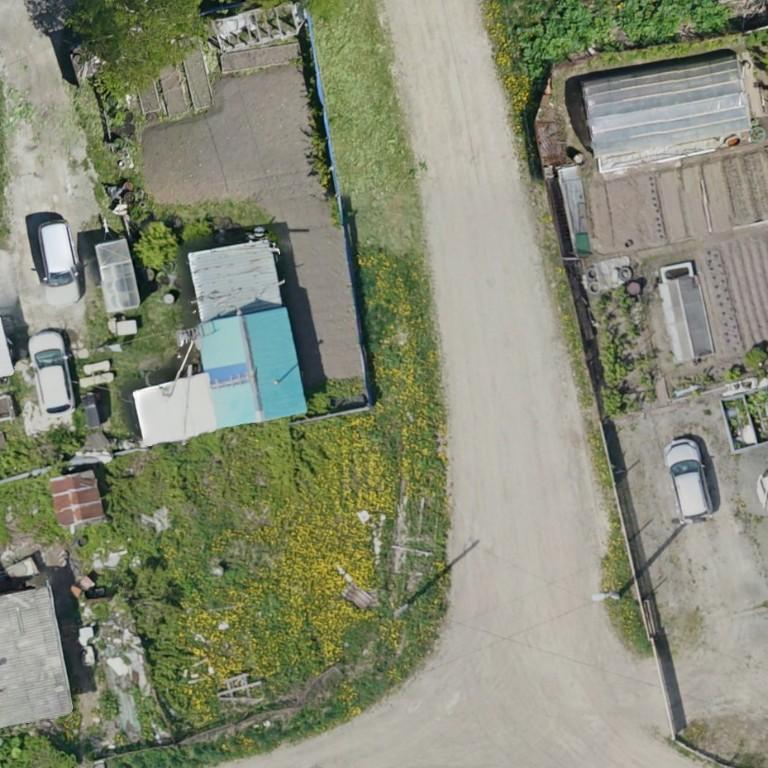hogweed: (517, 0, 618, 81), (619, 0, 730, 42)
